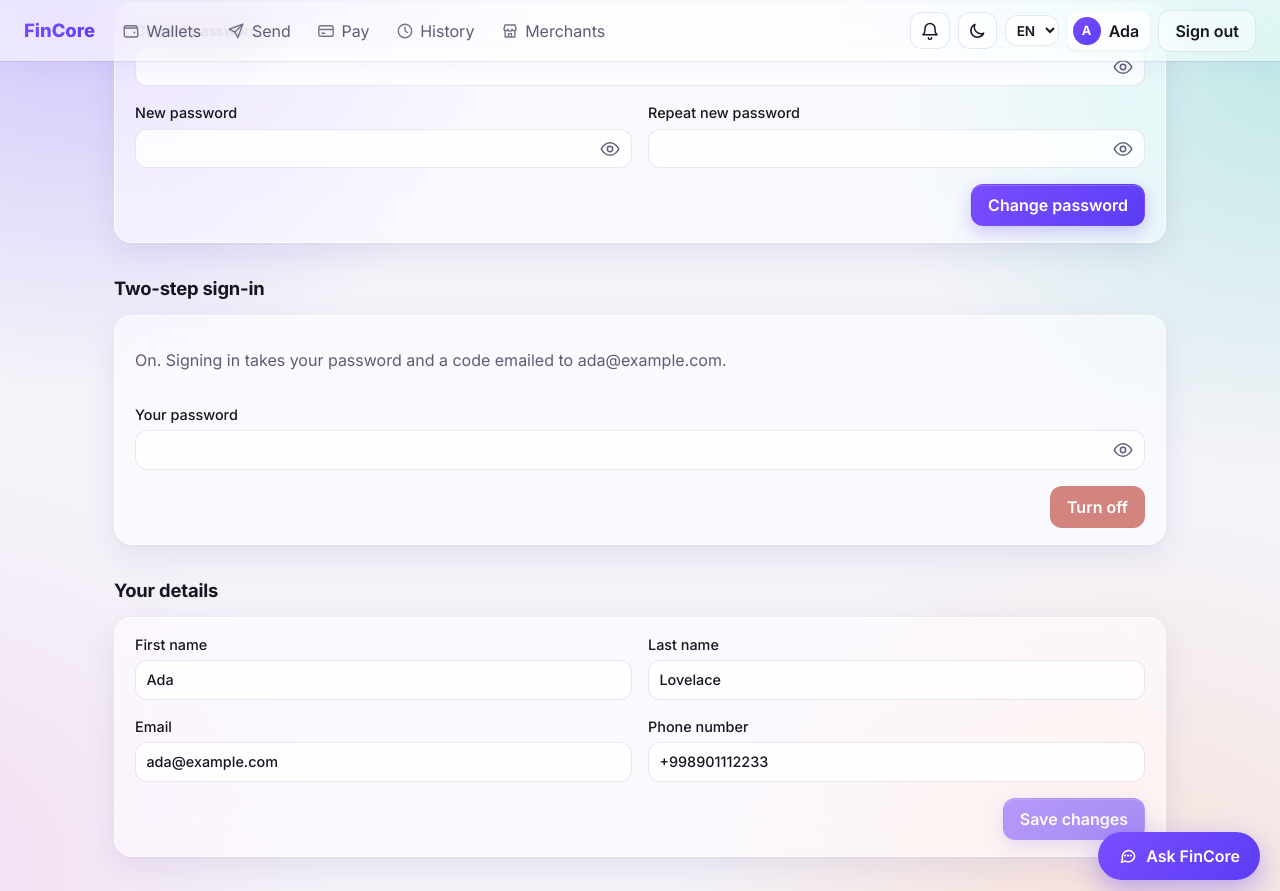
Test case: two-step sign-in on the Account page › turns off with the password
The width and height of the screenshot is (1280, 891).
(page scrolled)
Expected: the text "On. Signing in takes your password and a code emailed to ada@example.com" is shown, [135,350,726,370]
Type "correct-horse" into the password field labelled "Your password" at (640, 450), box [135,430,1145,470]
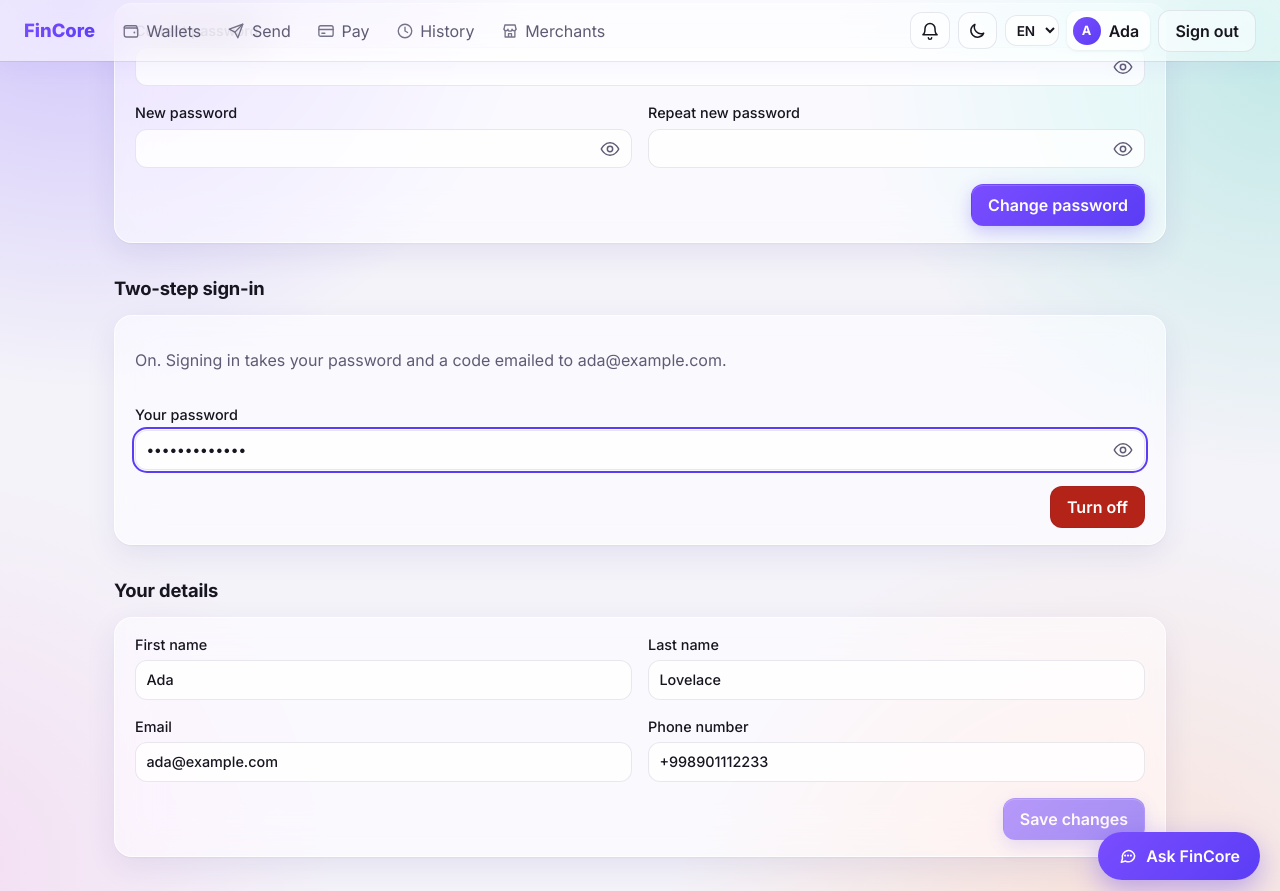
Click the button "Turn off" at (1098, 507), box [1050,486,1145,528]
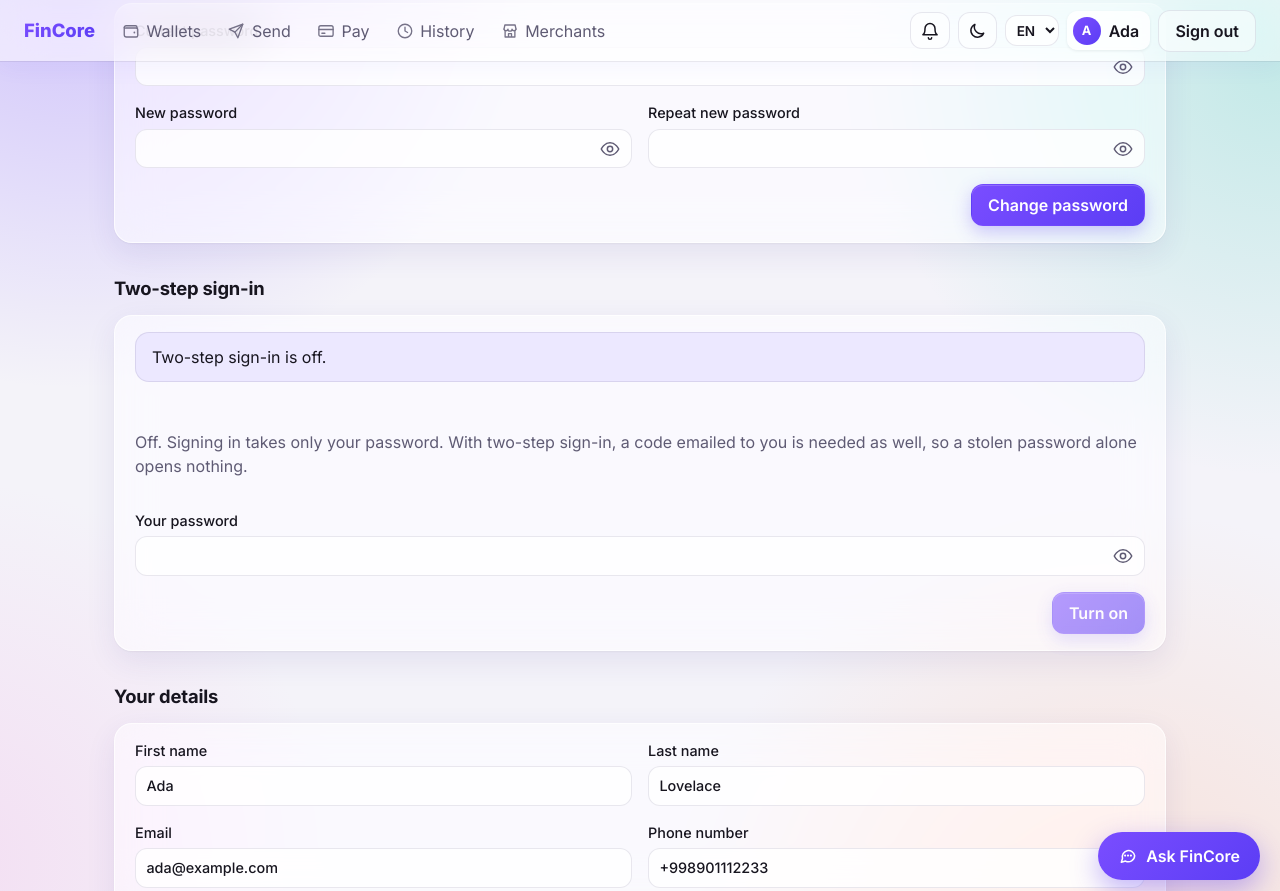
Now the text "Two-step sign-in is off." is shown, box [135,332,1145,382]
